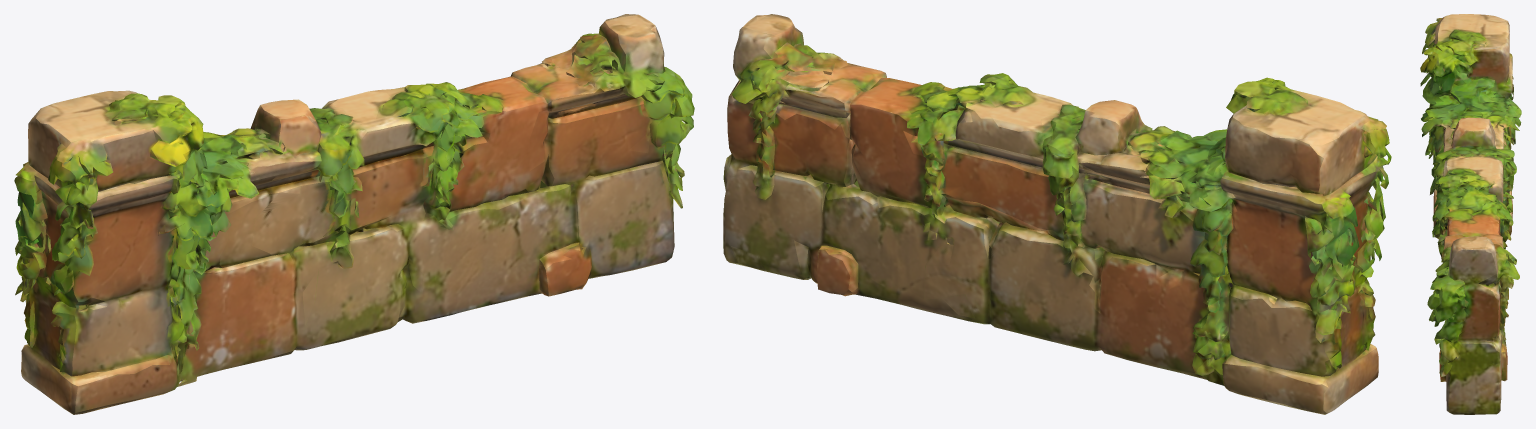
File: A1-ruin.glb
3 views of the same model, side by side, from view 1: azimuth 30°, elevation 25°; view 2: azimuth 150°, elevation 25°; view 3: azimuth 270°, elevation 25° (orthographic). The views are drawn at different scales.
Parts seen in each view (by area): view 1: geometry_0; view 2: geometry_0; view 3: geometry_0.
Part boxes in pixels (bbox=[...]): geometry_0: bbox=[14, 14, 694, 414]; geometry_0: bbox=[723, 14, 1391, 414]; geometry_0: bbox=[1420, 14, 1521, 414].
Bounding box in the file's own units: 3 × 1.25 × 0.5808.
1 material, 1 textured.
